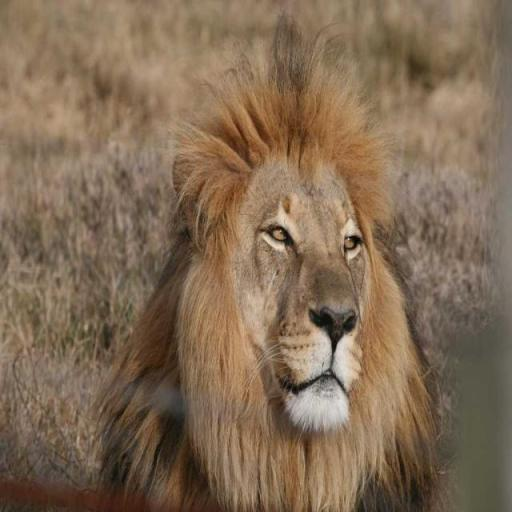Lion: (88, 10, 452, 510)
